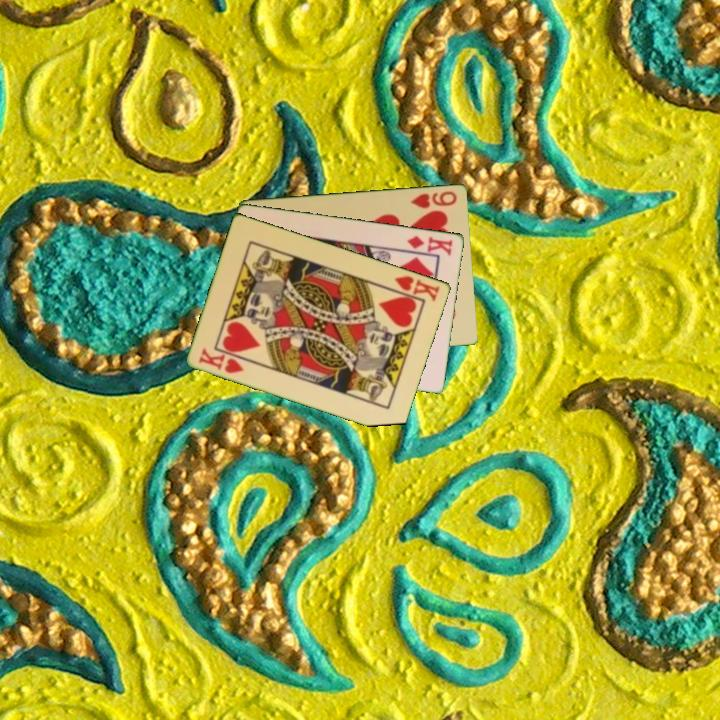9h: (407, 187, 460, 211)
Kd: (404, 232, 456, 258)
Kh: (385, 272, 443, 304), (195, 344, 247, 376)
